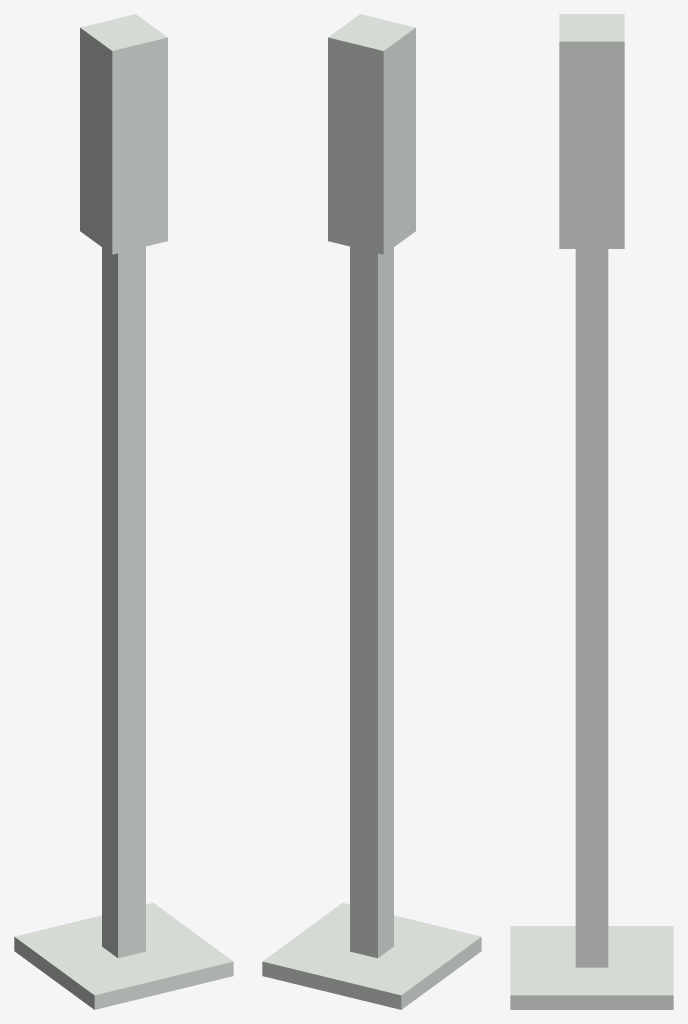
Rendered from lamp2.obj.
3 views of the same model, side by side, from view 1: azimuth 30°, elevation 25°; view 2: azimuth 150°, elevation 25°; view 3: azimuth 270°, elevation 25° (orthographic).
Bounding box in the file's own units: 1 × 6.4 × 1.
1 material, 1 textured.
